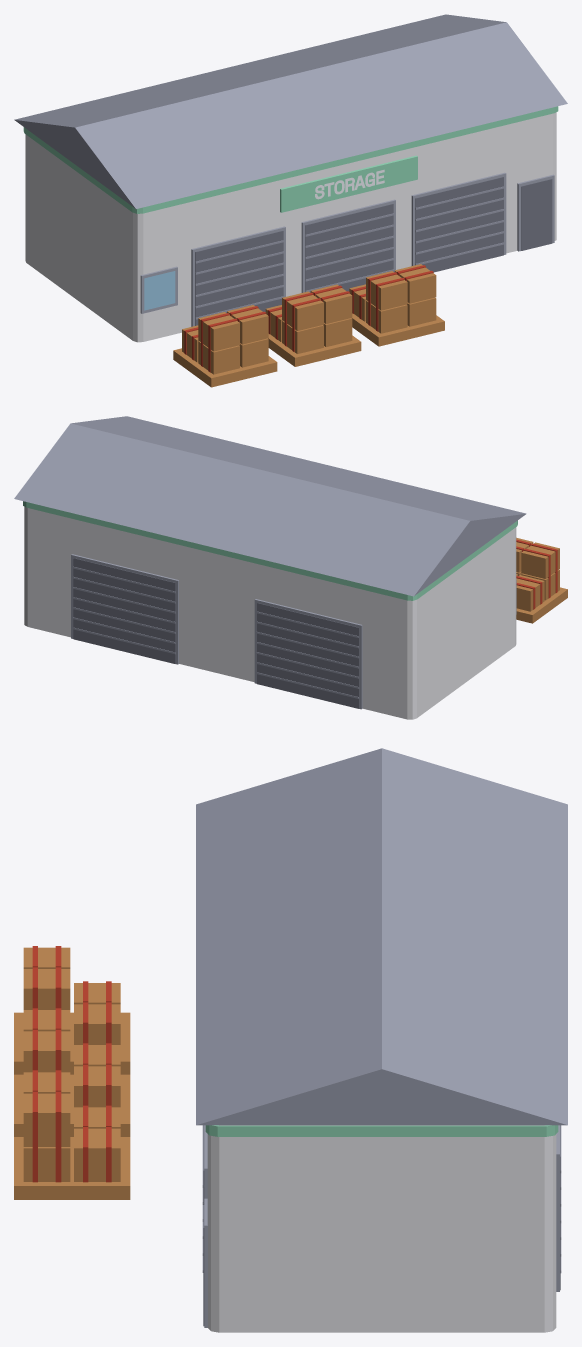
The model's file is storehouse-2x2-t3-tone-a.glb.
3 renders of one model, top to bottom at view 1: azimuth 30°, elevation 25°; view 2: azimuth 150°, elevation 25°; view 3: azimuth 270°, elevation 25°, orthographic. The views are drawn at different scales.
Parts seen in each view (by area): view 1: storehouse-2x2-t3-tone-a; view 2: storehouse-2x2-t3-tone-a; view 3: storehouse-2x2-t3-tone-a.
Boxes of the visible parts, x1,y1,x2,y2 form: storehouse-2x2-t3-tone-a: (14,14,567,387); storehouse-2x2-t3-tone-a: (14,416,567,719); storehouse-2x2-t3-tone-a: (14,748,567,1332).
Size of the model in its own units: 1.96 by 0.76 by 1.43.
Materials: 1 (1 with a texture image).
